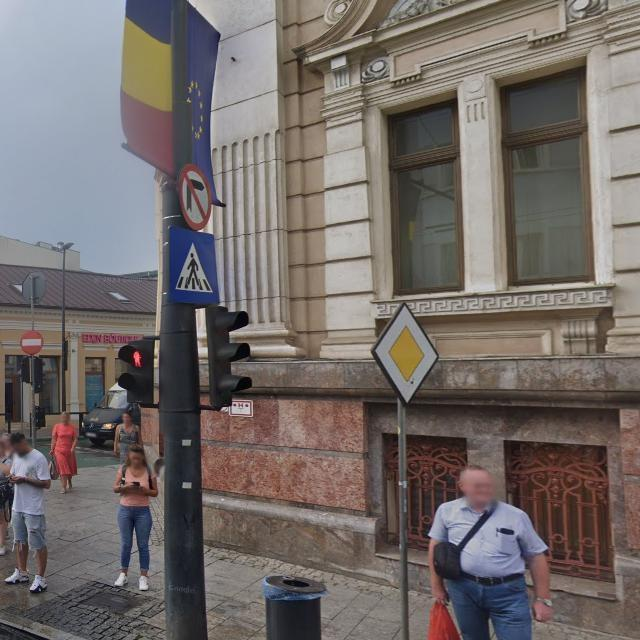info_crosswalk: (168, 227, 220, 307)
